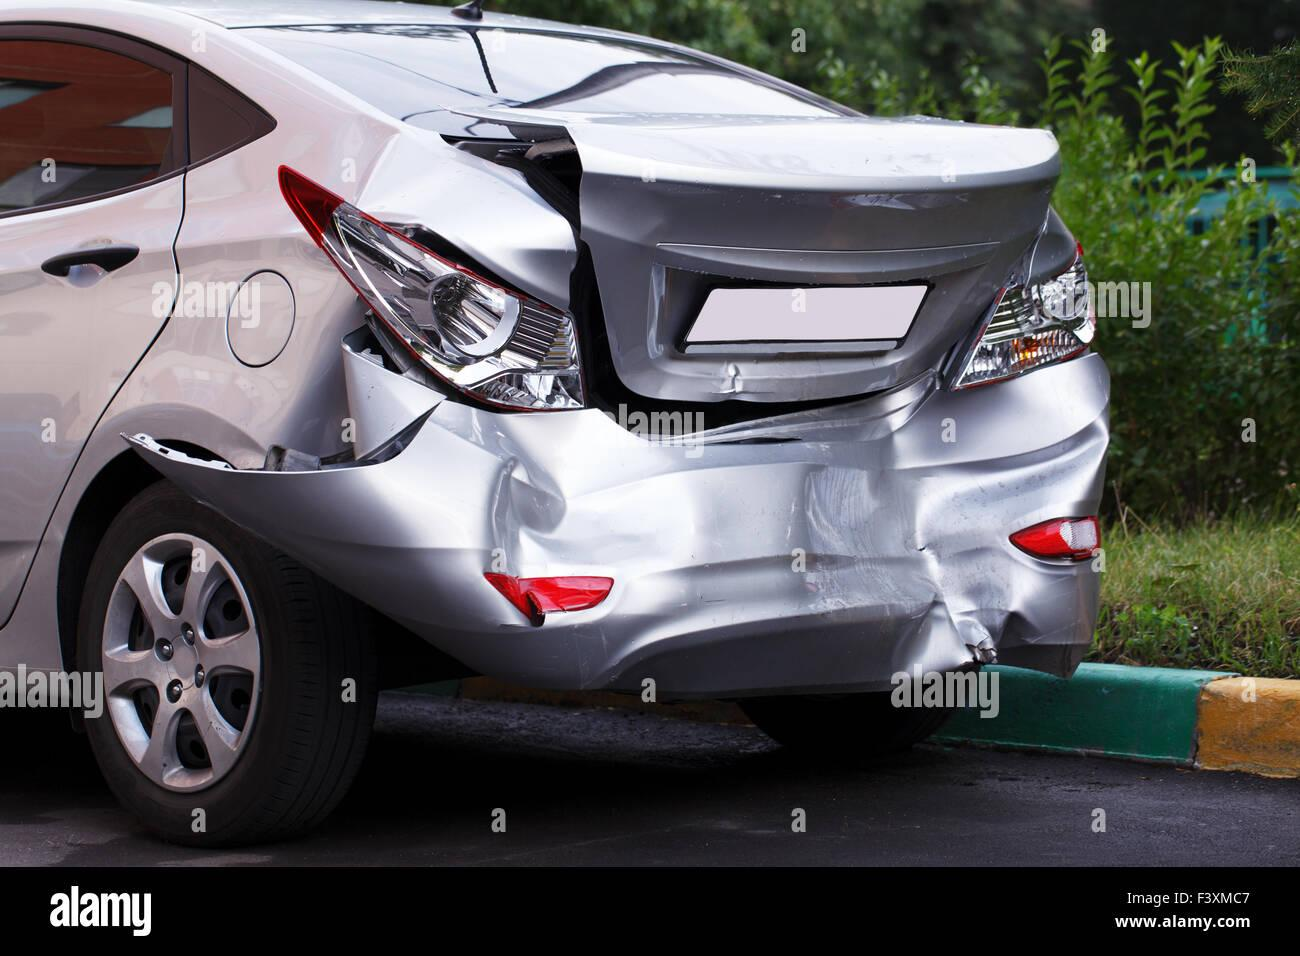dent: (117, 98, 1122, 723)
scratch: (823, 142, 990, 237)
